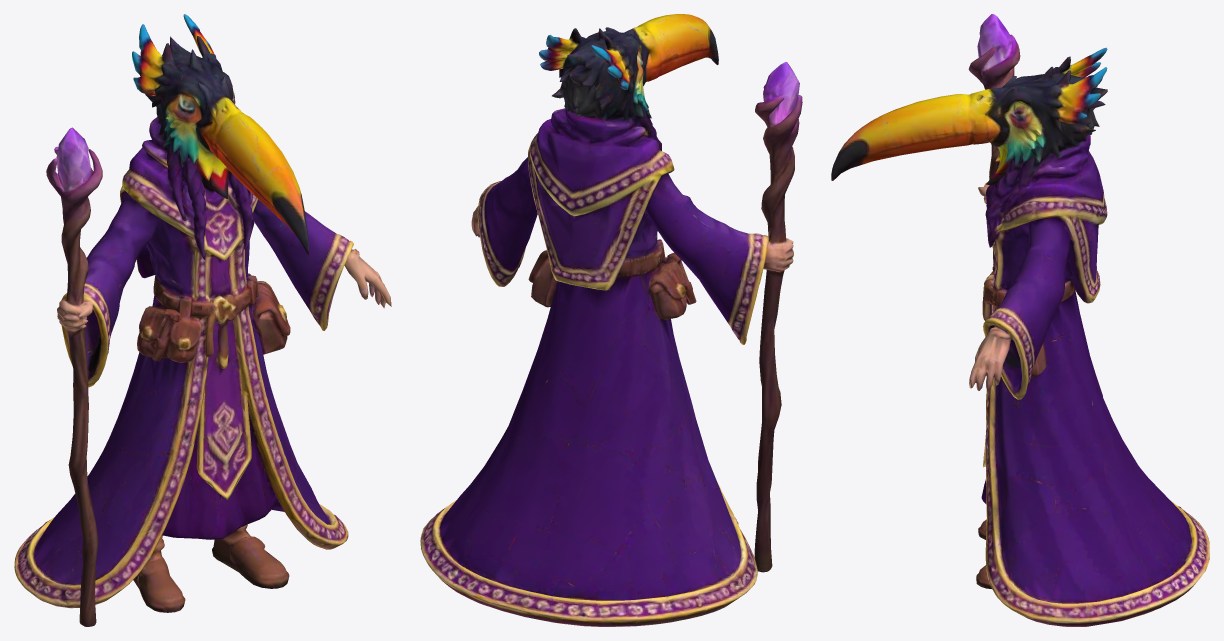
Rendered from stan.glb.
3 views of the same model, side by side, from view 1: azimuth 30°, elevation 25°; view 2: azimuth 150°, elevation 25°; view 3: azimuth 270°, elevation 25° (orthographic). The views are drawn at different scales.
Size of the model in its own units: 1.23 by 1.9 by 1.29.
1 material, 1 textured.
